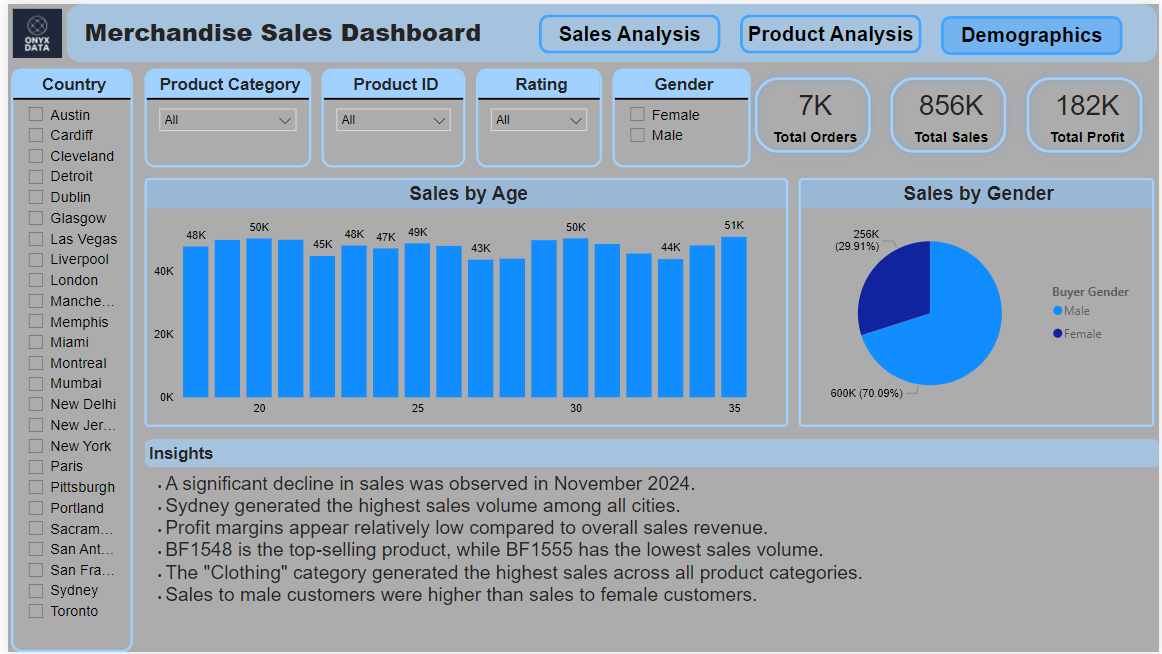

What the dashboard file says about the page in this screenshot:
{"tool":"powerbi","page":{"name":"Demographics","canvas":[1280,720],"ordinal":2},"visuals":[{"type":"image","box":[0,0,64.8,64.8],"z":0},{"type":"shape","box":[65,0,1211.7,65],"z":1000},{"type":"textbox","box":[80,6.7,466.7,50],"z":2000},{"type":"slicer","title":"Country","fields":{"Values":["Data.Order Location"]},"box":[3.3,71.7,135,648.3],"z":3000},{"type":"cardVisual","fields":{"Data":["CountNonNull(Data.Order ID)","Sum(Data.Total Sales)","Sum(Data.Total Profit)"]},"box":[813.3,65,463.3,116.7],"z":4000},{"type":"actionButton","box":[1036.7,13.3,201.7,43.3],"z":5000},{"type":"actionButton","box":[813.3,11.7,201.7,43.3],"z":6000},{"type":"actionButton","box":[590,11.7,201.7,43.3],"z":7000},{"type":"slicer","title":"Product Category","fields":{"Values":["Data.Product Category"]},"box":[151.7,71.7,185,110],"z":8000},{"type":"slicer","title":"Product ID","fields":{"Values":["Data.Product ID"]},"box":[348.3,71.7,160,110],"z":9000},{"type":"slicer","title":"Rating","fields":{"Values":["Data.Rating"]},"box":[520,71.7,140,110],"z":10000},{"type":"clusteredColumnChart","title":"Sales by Age","fields":{"Category":["Data.Buyer Age"],"Y":["Sum(Data.Total Sales)"]},"box":[151.7,193.3,715,276.7],"z":11000},{"type":"pieChart","title":"Sales by Gender","fields":{"Category":["Data.Buyer Gender"],"Y":["Sum(Data.Total Sales)"]},"box":[878.3,193.3,395,276.7],"z":12000},{"type":"slicer","title":"Gender","fields":{"Values":["Data.Buyer Gender"]},"box":[671.7,71.7,153.3,110],"z":13000},{"type":"shape","box":[151.7,483.3,1128.3,31.7],"z":14000},{"type":"textbox","box":[151.7,483.3,243.3,31.7],"z":15000},{"type":"textbox","box":[152,515,1128,205],"z":16000}]}

Visuals, with their boxes in screenshot pixels (x1, y1, x2, y2), scaled from the page's 1280x720 canvas onto the 1162x654 screenshot:
image: left=0, top=0, right=59, bottom=59
shape: left=59, top=0, right=1159, bottom=59
textbox: left=73, top=6, right=496, bottom=52
"Country" slicer: left=3, top=65, right=126, bottom=653
cardVisual - CountNonNull(Data.Order ID) x Sum(Data.Total Sales): left=738, top=59, right=1159, bottom=165
actionButton: left=941, top=12, right=1124, bottom=51
actionButton: left=738, top=11, right=921, bottom=50
actionButton: left=536, top=11, right=719, bottom=50
"Product Category" slicer: left=138, top=65, right=306, bottom=165
"Product ID" slicer: left=316, top=65, right=461, bottom=165
"Rating" slicer: left=472, top=65, right=599, bottom=165
"Sales by Age" clusteredColumnChart: left=138, top=176, right=787, bottom=427
"Sales by Gender" pieChart: left=797, top=176, right=1156, bottom=427
"Gender" slicer: left=610, top=65, right=749, bottom=165
shape: left=138, top=439, right=1161, bottom=468
textbox: left=138, top=439, right=359, bottom=468
textbox: left=138, top=468, right=1161, bottom=653
